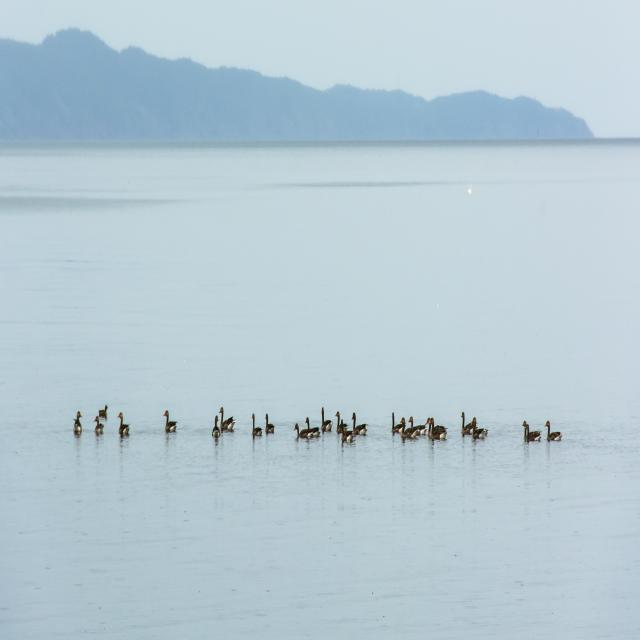bird: (336, 411, 354, 449), (299, 415, 320, 446), (427, 420, 448, 451), (471, 413, 490, 445), (250, 410, 266, 444), (398, 415, 416, 443), (117, 410, 131, 445), (212, 408, 224, 448), (164, 409, 178, 443), (521, 419, 538, 447), (354, 414, 371, 442), (458, 412, 471, 447), (221, 409, 236, 437), (408, 414, 426, 437), (71, 410, 83, 444), (545, 422, 562, 446), (264, 412, 277, 439), (321, 411, 334, 438), (92, 417, 105, 442), (96, 404, 109, 422), (390, 414, 401, 434)
